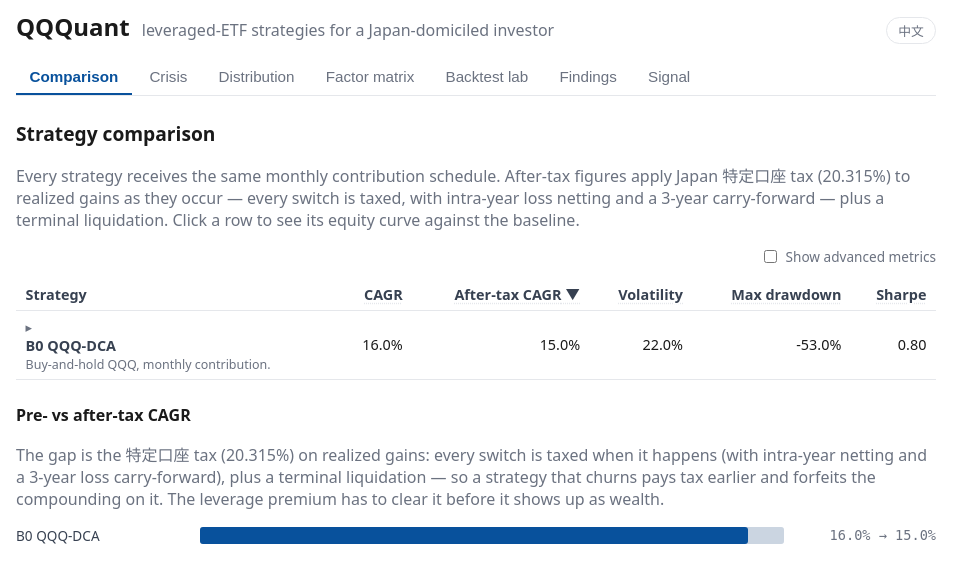
Test: the header language toggle flips the whole UI to 中文
Expected: the heading "Strategy comparison" is shown, [16,120,215,147]
Click the button "中文" at (911, 30), box [886,17,936,44]
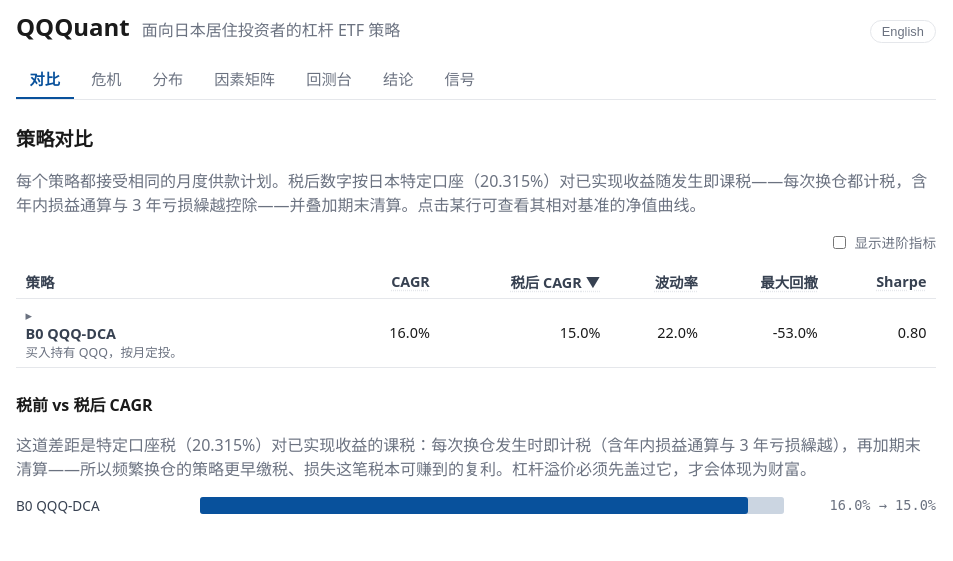
Expected: the heading "策略对比" is shown, [16,125,93,152]
Expected: the button "信号" is shown, [431,59,488,99]
Expected: the button "English" is shown, [870,20,936,43]
